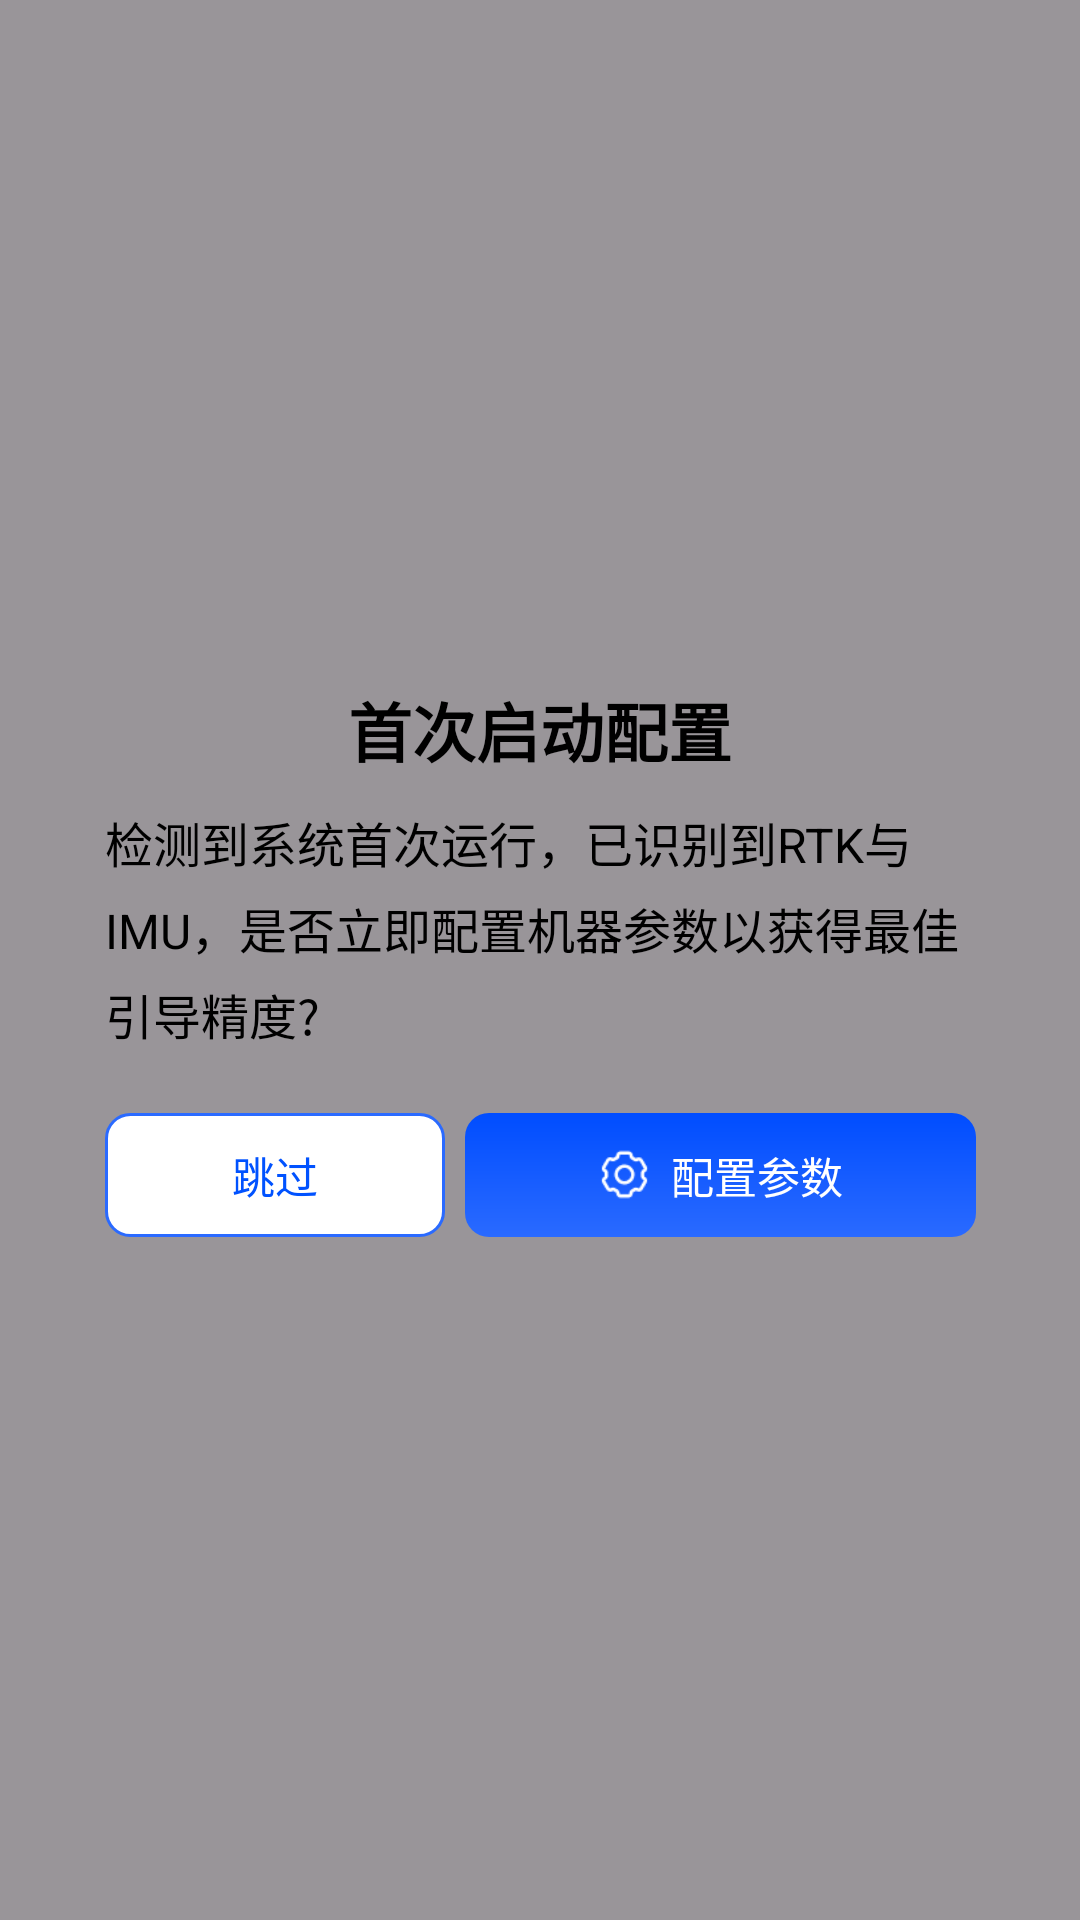

Icon bounding boxes for this 1080 × 1920 phone screenshot, format [x1, y1, x2, y2]:
setting: [598, 1150, 651, 1201]
